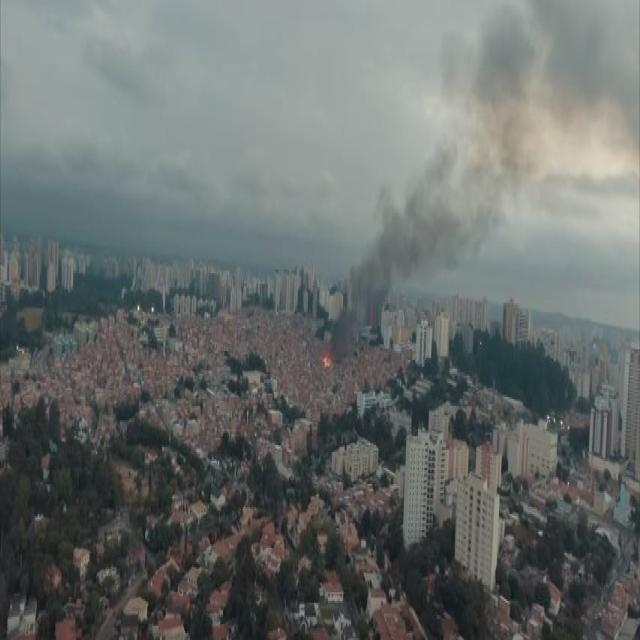Fire: (321, 352, 331, 372)
Smoke: (332, 9, 636, 367)
